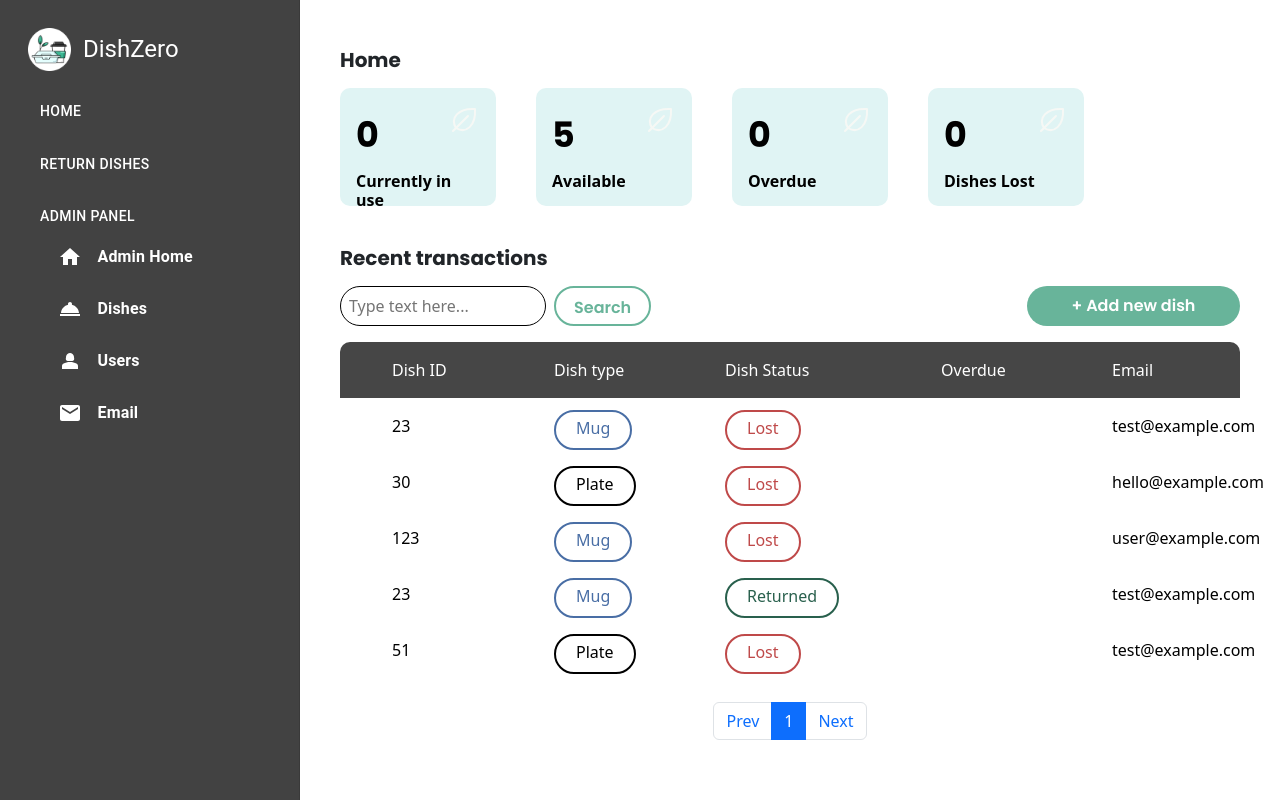
Scenario: Table Functionalities › search functionality
Simulate typing into the search bar
Type "123" into the field with placeholder "Type text here..." at (443,306), box x1=340 y1=286 x2=546 y2=326
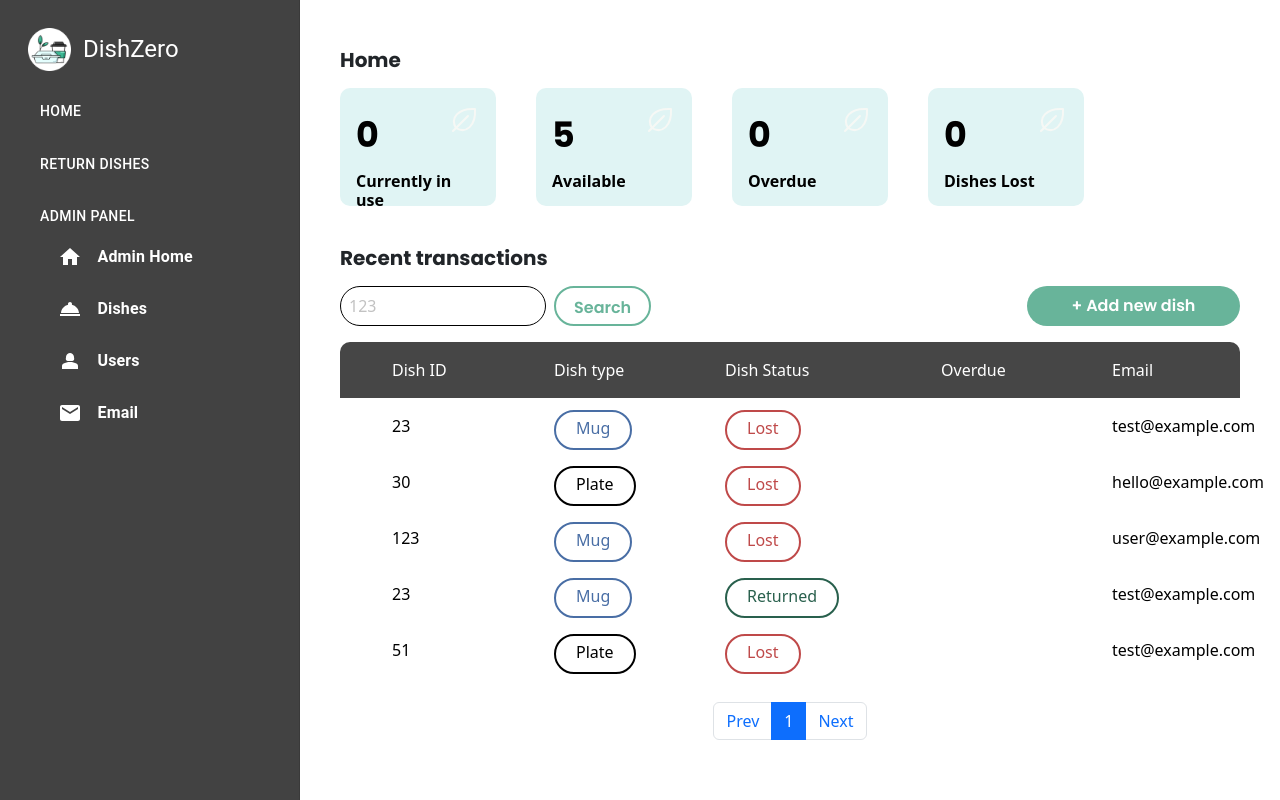
Simulate click on the search button
Click the button "Search" at (603,306), box x1=554 y1=286 x2=651 y2=326
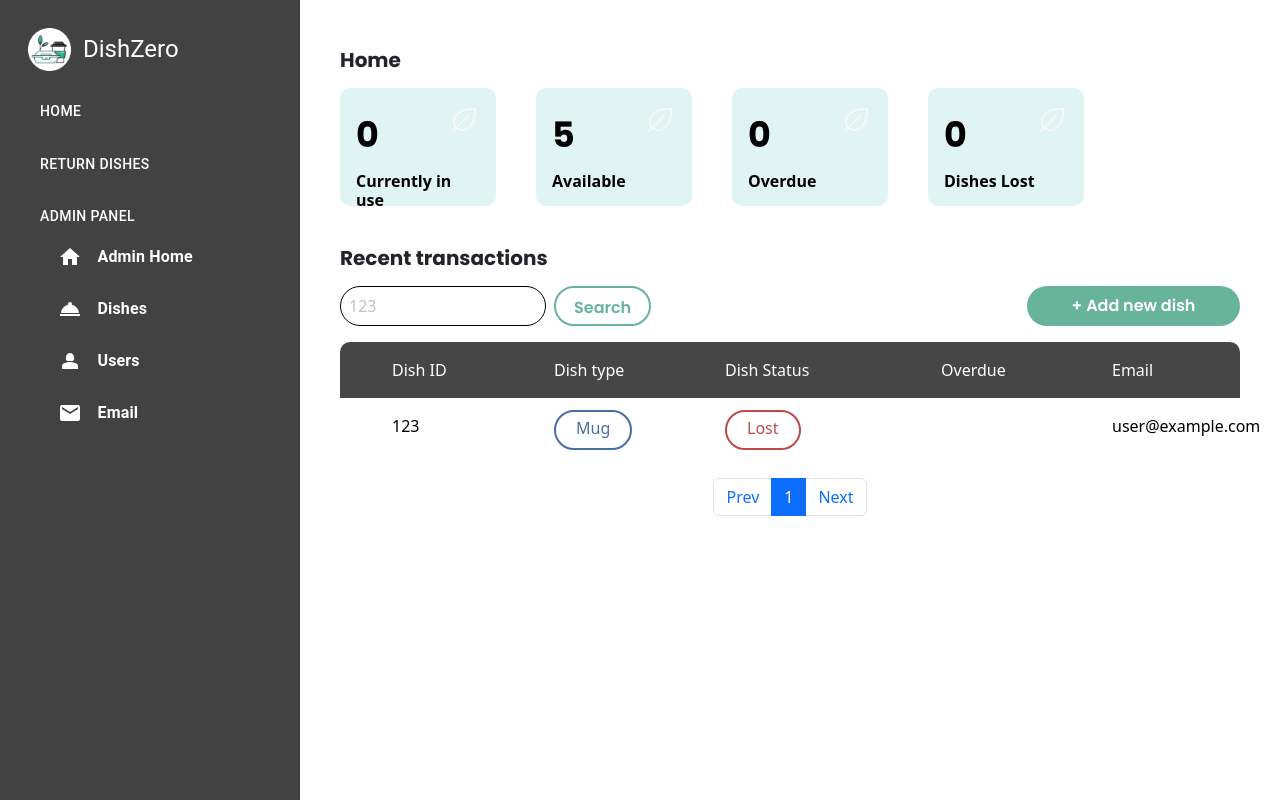
Now the text "user@example.com" is shown, box x1=1112 y1=414 x2=1260 y2=438
